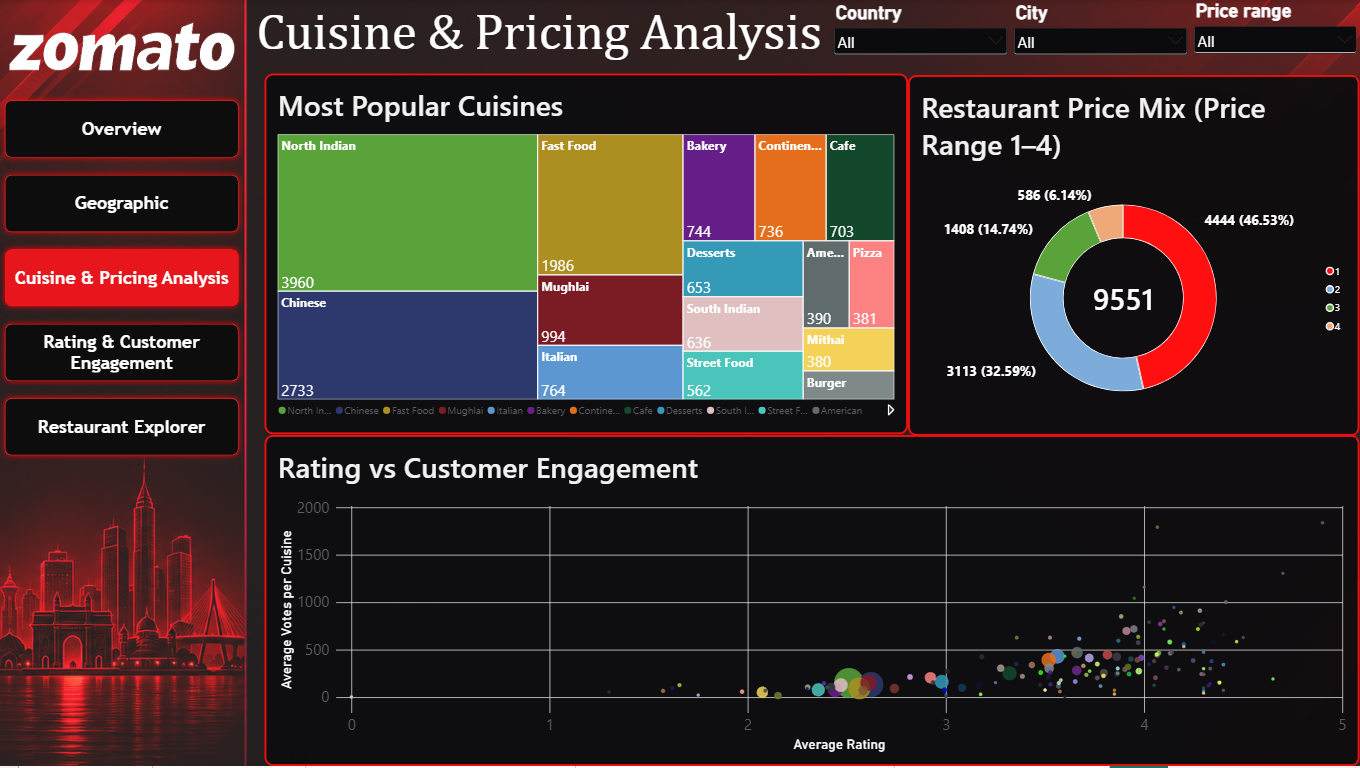

Layout of this report page (visuals, bound fields, positions):
{"tool":"powerbi","page":{"name":"Cuisine & Pricing Analysis","canvas":[1920,1080],"ordinal":2},"visuals":[{"type":"treemap","title":"Most Popular Cuisines","fields":{"Group":["Cuisine_ Analysis.Cuisines"],"Values":["Cuisine_ Analysis.Restaurants per Cuisine"]},"box":[375.1,103.2,907.2,508.8],"z":0},{"type":"donutChart","title":"Restaurant Price Mix (Price Range 1–4)","fields":{"Category":["Zomato_Cleaned_v2.Price range"],"Y":["CountNonNull(Zomato_Cleaned_v2.Restaurant ID)"]},"box":[1282.4,105.5,637.7,508.8],"z":1000},{"type":"scatterChart","title":"Rating vs Customer Engagement","fields":{"Series":["Cuisine_ Analysis.Cuisines"],"Size":["Cuisine_ Analysis.Restaurants per Cuisine"],"X":["Cuisine_ Analysis.Average Cuisine Rating"],"Y":["Avg(Cuisine_ Analysis.Votes)"]},"box":[375.1,614.3,1545,466.6],"z":2000},{"type":"slicer","fields":{"Values":["Country.Country"]},"box":[1171.2,2.4,255.1,102],"z":3000},{"type":"slicer","fields":{"Values":["Zomato_Cleaned_v2.City"]},"box":[1425.6,2.4,255.1,102],"z":4000},{"type":"slicer","fields":{"Values":["Zomato_Cleaned_v2.Price range"]},"box":[1680,0,240,103.2],"z":5000},{"type":"textbox","box":[350.4,0,820.8,103.2],"z":6000},{"type":"image","box":[0,0,347,131.3],"z":7000},{"type":"pageNavigator","box":[0,133.6,347,520.5],"z":8000}]}

Visuals, with their boxes in screenshot pixels (x1, y1, x2, y2), scaled from the page's 1920x1080 canvas onto the 1360x768 screenshot:
"Most Popular Cuisines" treemap: bbox=[266, 73, 908, 435]
"Restaurant Price Mix (Price Range 1–4)" donutChart: bbox=[908, 75, 1359, 437]
"Rating vs Customer Engagement" scatterChart: bbox=[266, 437, 1359, 767]
slicer - Country.Country: bbox=[830, 2, 1010, 74]
slicer - Zomato_Cleaned_v2.City: bbox=[1010, 2, 1190, 74]
slicer - Zomato_Cleaned_v2.Price range: bbox=[1190, 0, 1359, 73]
textbox: bbox=[248, 0, 830, 73]
image: bbox=[0, 0, 246, 93]
pageNavigator: bbox=[0, 95, 246, 465]
